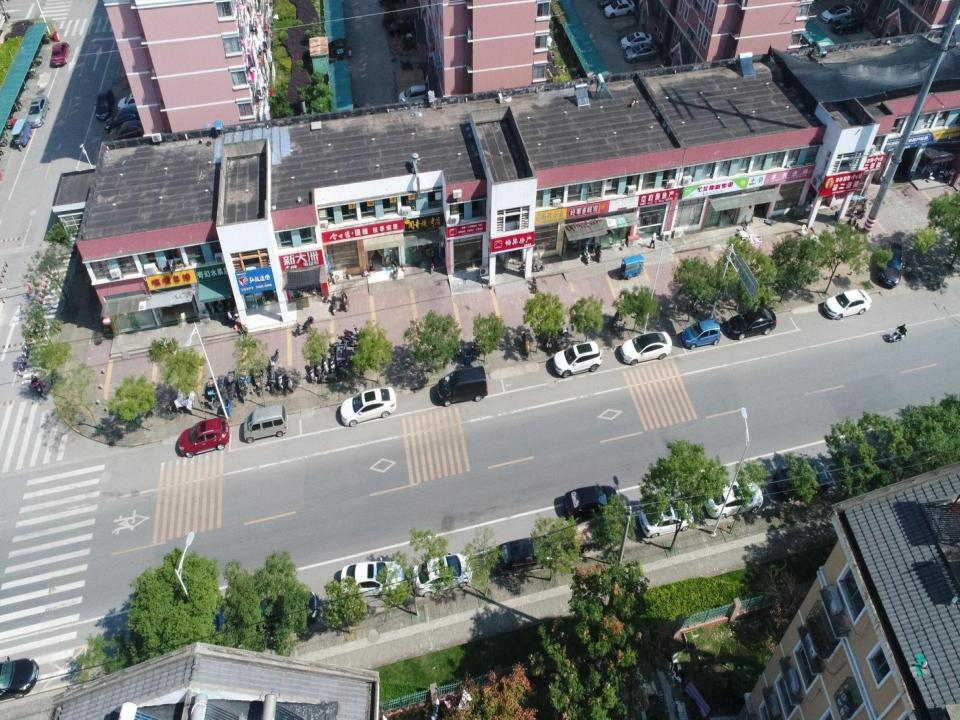car: (411, 552, 473, 598), (493, 534, 556, 578), (340, 386, 397, 428), (340, 561, 404, 598), (704, 480, 764, 519), (258, 590, 318, 628), (177, 416, 230, 458), (180, 602, 233, 644), (639, 500, 694, 538), (563, 485, 619, 522), (773, 463, 829, 499), (553, 340, 602, 379), (620, 331, 672, 366), (0, 656, 39, 699), (727, 307, 777, 340), (823, 288, 872, 320), (681, 318, 721, 350), (878, 241, 904, 288), (104, 106, 145, 134), (108, 119, 149, 144), (26, 94, 51, 128), (117, 92, 151, 115), (624, 42, 658, 64), (831, 13, 863, 36), (819, 4, 853, 25), (619, 30, 653, 50), (94, 89, 114, 121), (398, 84, 428, 105), (603, 0, 636, 19), (388, 17, 412, 39), (50, 42, 70, 66), (597, 0, 615, 9)
truck: (570, 513, 622, 552)
van: (436, 365, 488, 407), (243, 404, 289, 444)
